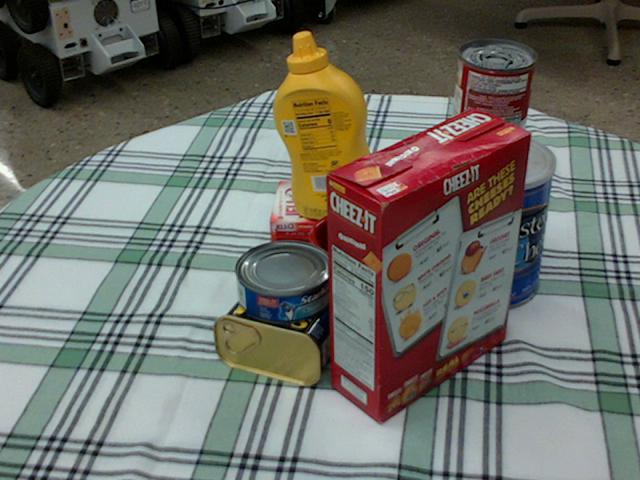cracker_box: (326, 109, 531, 422)
gelatin_box: (269, 181, 341, 244)
master_chef_can: (435, 132, 555, 309)
mug: (309, 210, 427, 328)
mustard_bottle: (272, 32, 383, 219)
potted_meat_can: (216, 271, 355, 384)
sugar_box: (346, 155, 473, 275)
tomato_soup_can: (448, 40, 534, 174)
tuna_fish_can: (235, 240, 333, 324)
